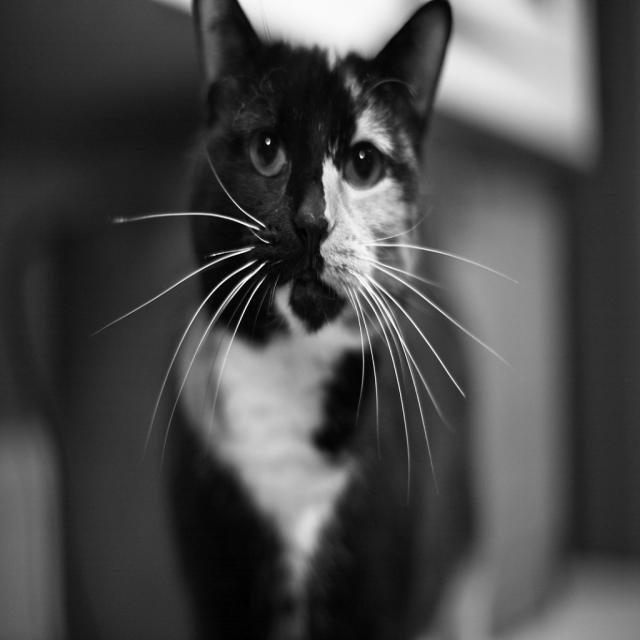Cat: (85, 0, 522, 638)
